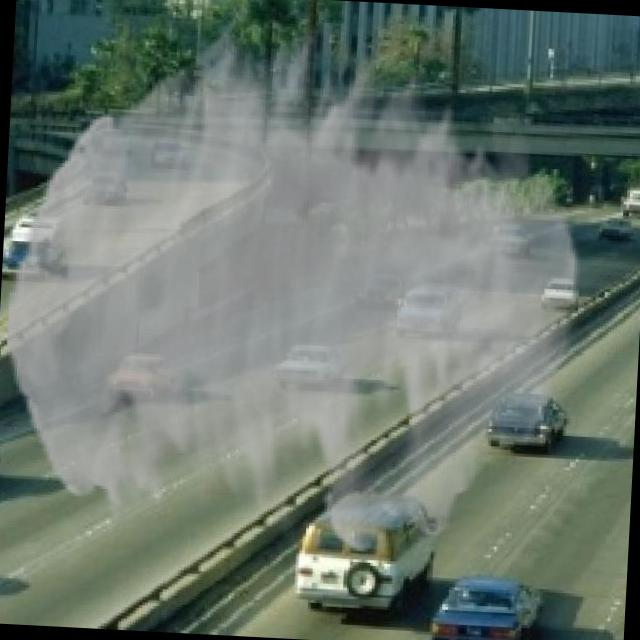Smoke: (0, 16, 592, 562)
